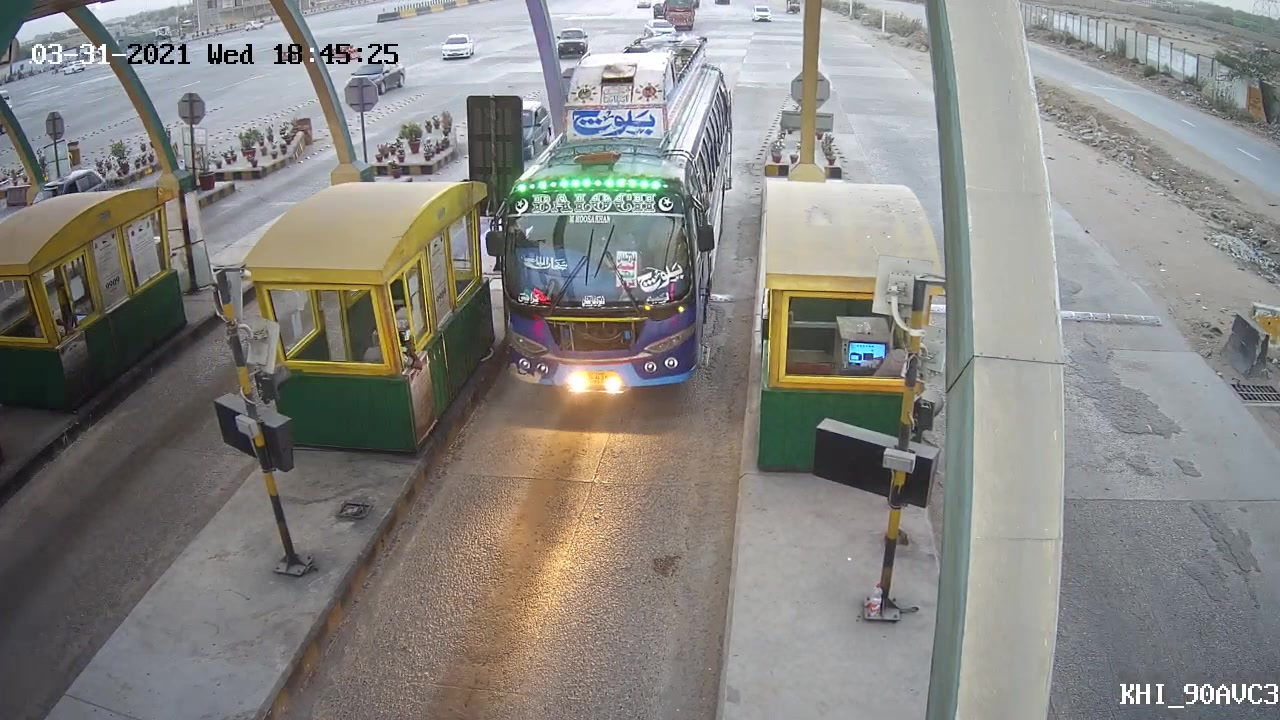F4: (493, 17, 744, 406)
